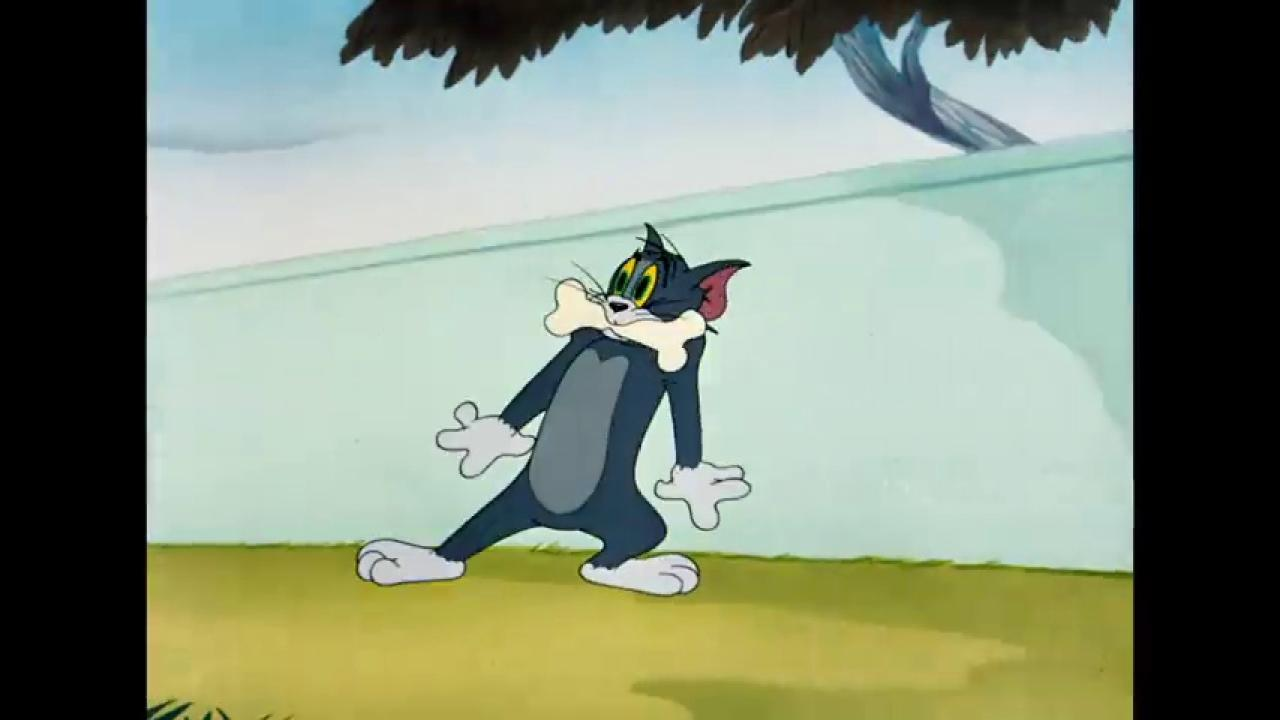Tom: (353, 219, 753, 596)
